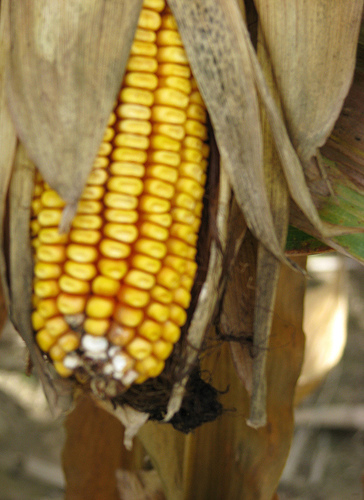corn: (25, 0, 211, 402)
